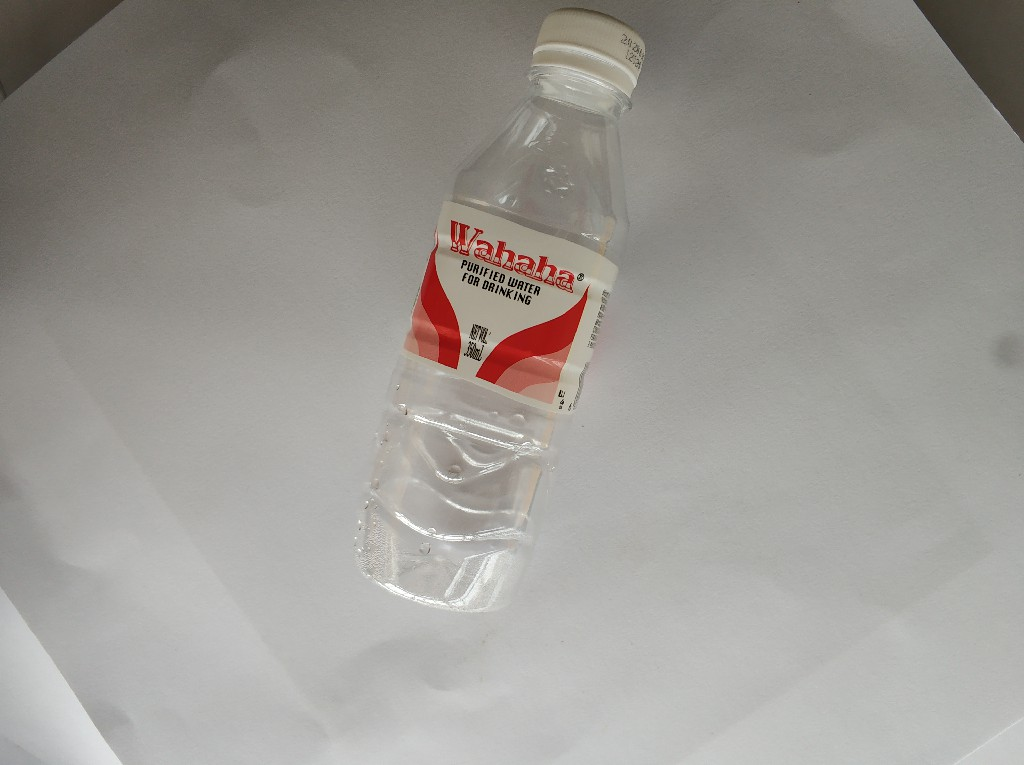bottle: (348, 5, 656, 624)
